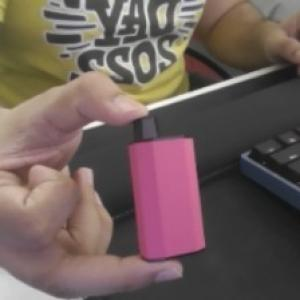Blume-E-Ciggirate: (128, 116, 214, 264)
